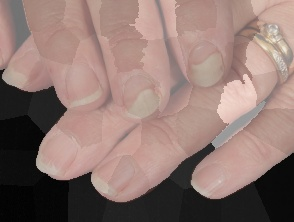Nail_psoriasis: (102, 52, 181, 133), (82, 134, 155, 209), (26, 117, 98, 193), (173, 32, 240, 95), (52, 46, 110, 115), (0, 41, 56, 106), (189, 160, 237, 202)
